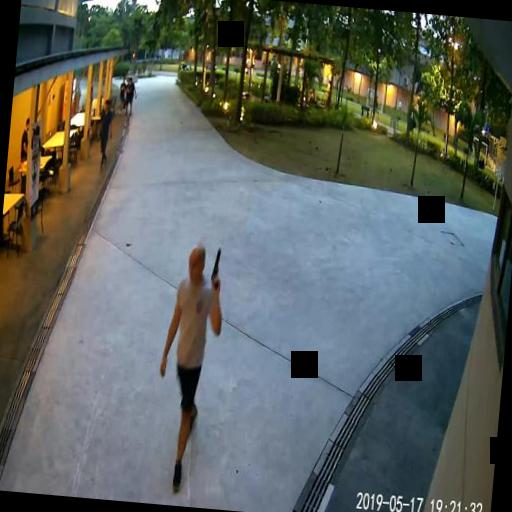Handgun: (209, 244, 223, 289)
